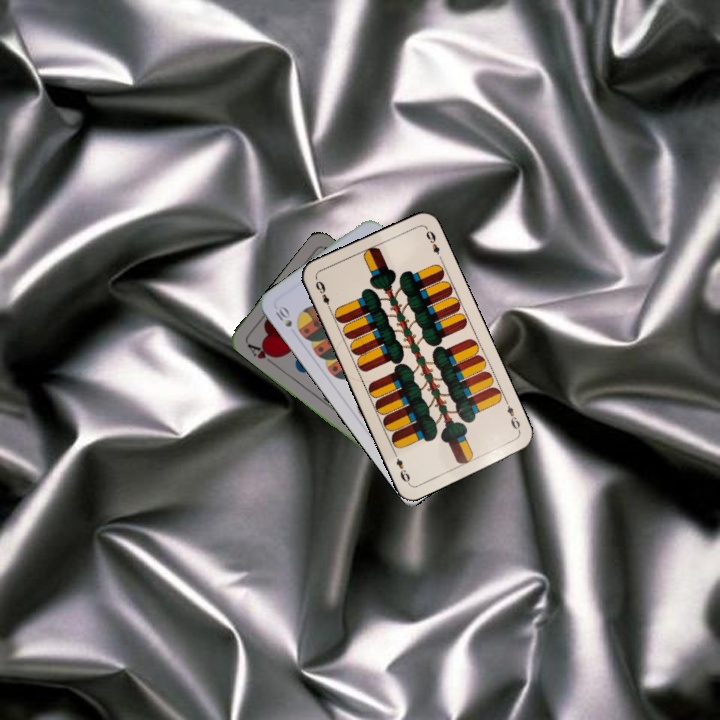E9: (501, 396, 523, 435), (311, 277, 334, 314)
HA: (243, 340, 280, 368)
S10: (271, 302, 295, 330)
